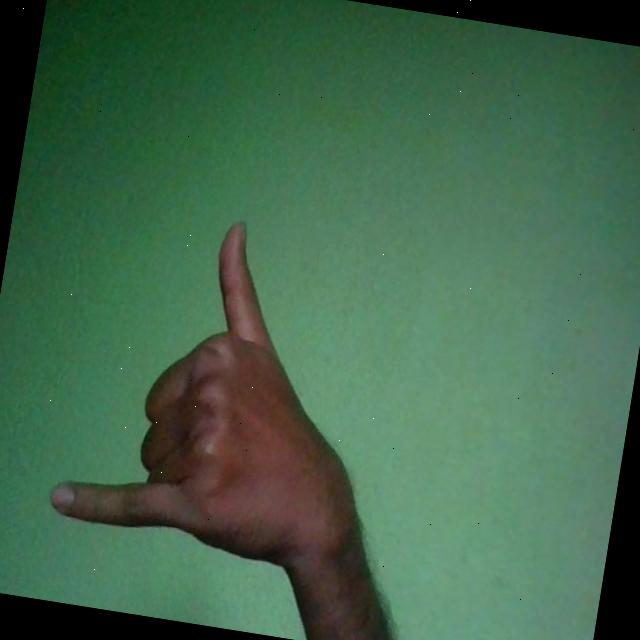Call Me: (45, 199, 412, 580)
